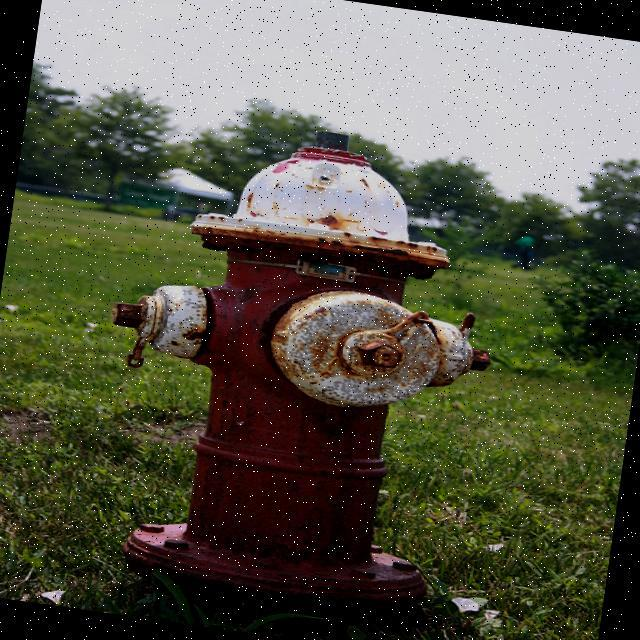fire_hydrant: (70, 110, 502, 638)
